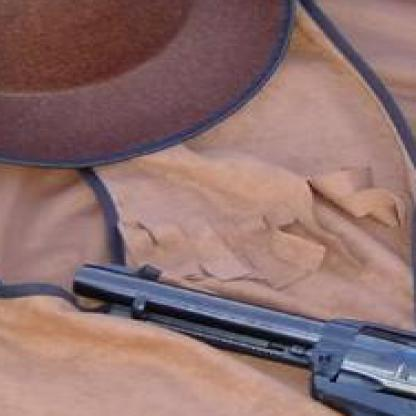gun: (73, 258, 414, 414)
